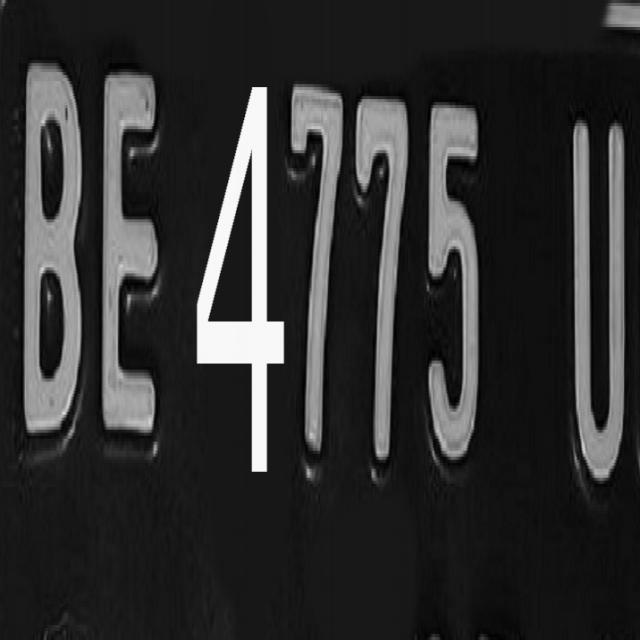4: (195, 63, 281, 486)
5: (426, 93, 498, 470)
7: (283, 63, 343, 474), (353, 90, 405, 474)
B: (11, 56, 93, 454)
E: (92, 64, 175, 467)
U: (565, 108, 640, 498)
